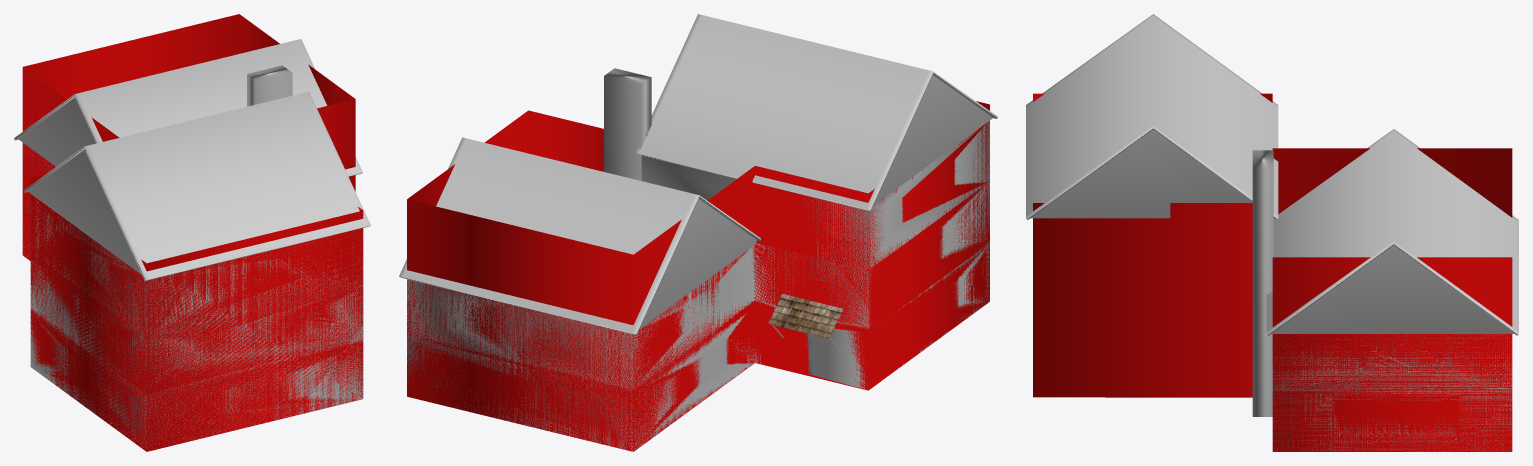
The model's file is bauernhaus_01.fbx.
3 renders of one model, left to right at view 1: azimuth 30°, elevation 25°; view 2: azimuth 150°, elevation 25°; view 3: azimuth 270°, elevation 25°, orthographic. The views are drawn at different scales.
Parts seen in each view (by area): view 1: bauernhaus_01, colmesh; view 2: bauernhaus_01, colmesh; view 3: bauernhaus_01, colmesh.
Part boxes in pixels (x1,y1,x2,y2): bauernhaus_01: (14, 39, 370, 450); colmesh: (22, 14, 363, 451); bauernhaus_01: (399, 14, 997, 451); colmesh: (407, 101, 989, 451); bauernhaus_01: (1026, 14, 1518, 451); colmesh: (1033, 93, 1512, 451).
Bounding box in the file's own units: 1471 × 1119 × 1824.
